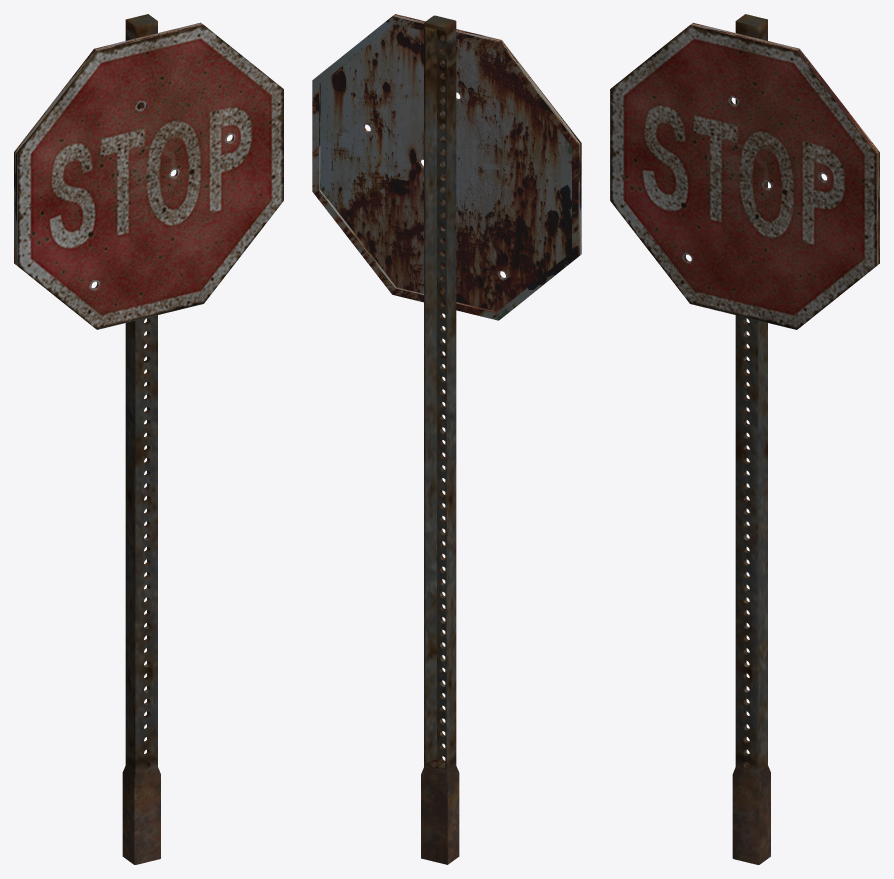
The model's file is road_sign.glb.
The picture shows the model from 3 angles, left to right: view 1: azimuth 30°, elevation 25°; view 2: azimuth 150°, elevation 25°; view 3: azimuth 330°, elevation 25°; orthographic projection.
Visible parts, largest first — view 1: Stop Sign_01 - Default_0, Stop Sign_08 - Default_0, Stop Sign_07 - Default_0, Stop Sign_02 - Default_0; view 2: Stop Sign_02 - Default_0, Stop Sign_08 - Default_0, Stop Sign_07 - Default_0; view 3: Stop Sign_01 - Default_0, Stop Sign_08 - Default_0, Stop Sign_07 - Default_0, Stop Sign_02 - Default_0.
Boxes of the visible parts, x1=… form: Stop Sign_01 - Default_0: x1=17, y1=25, x2=283, y2=329; Stop Sign_08 - Default_0: x1=125, y1=14, x2=157, y2=772; Stop Sign_07 - Default_0: x1=122, y1=765, x2=160, y2=864; Stop Sign_02 - Default_0: x1=14, y1=22, x2=203, y2=325; Stop Sign_02 - Default_0: x1=312, y1=14, x2=581, y2=320; Stop Sign_08 - Default_0: x1=424, y1=15, x2=456, y2=772; Stop Sign_07 - Default_0: x1=421, y1=766, x2=459, y2=864; Stop Sign_01 - Default_0: x1=610, y1=25, x2=876, y2=329; Stop Sign_08 - Default_0: x1=735, y1=14, x2=767, y2=772; Stop Sign_07 - Default_0: x1=732, y1=765, x2=770, y2=864; Stop Sign_02 - Default_0: x1=690, y1=22, x2=879, y2=327.
Bounding box in the file's own units: 0.8333 × 2.5 × 0.0779.
5 materials, 5 textured.
